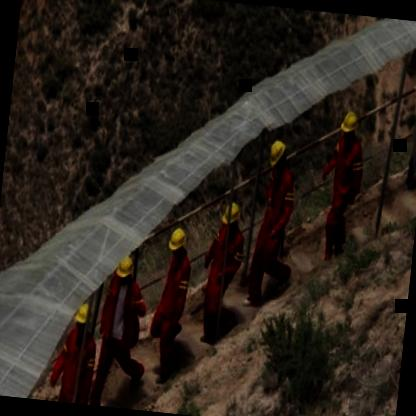helmet: (72, 298, 94, 338), (266, 137, 288, 170), (218, 198, 243, 227), (338, 110, 360, 142), (167, 226, 187, 258), (114, 256, 134, 286)
